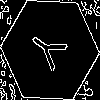Y: (25, 25, 75, 78)
